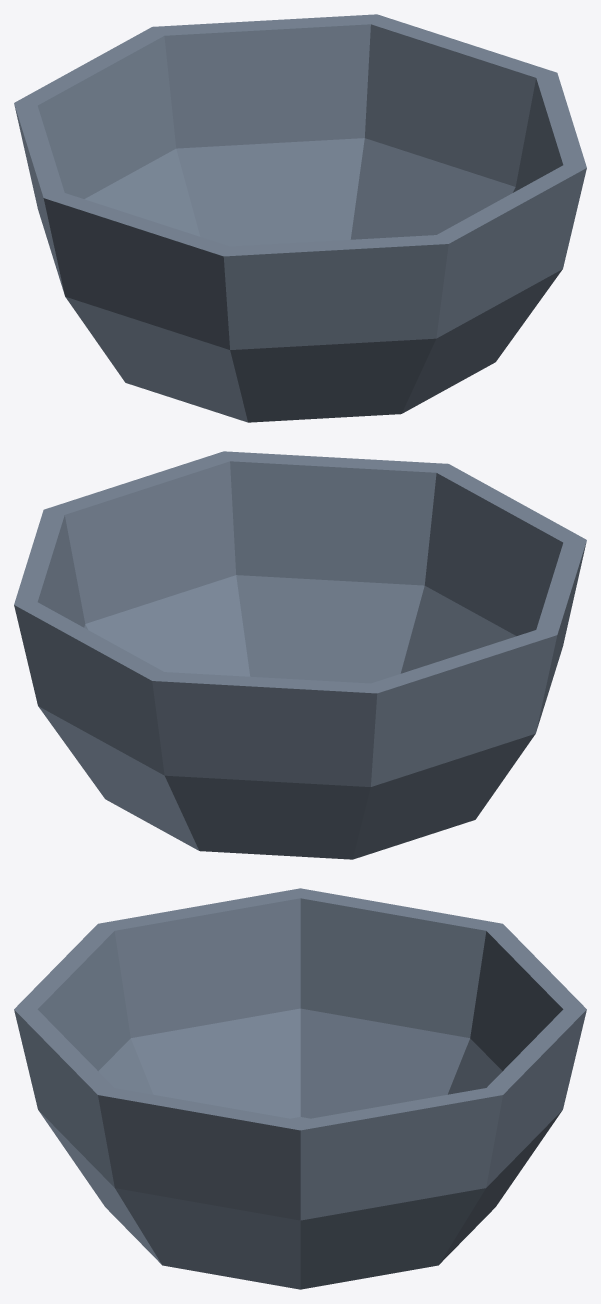
The model's file is Food_bowl.glb.
The picture shows the model from 3 angles, top to bottom: view 1: azimuth 30°, elevation 25°; view 2: azimuth 150°, elevation 25°; view 3: azimuth 270°, elevation 25°; orthographic projection. The views are drawn at different scales.
Visible parts, largest first — view 1: dishes02; view 2: dishes02; view 3: dishes02.
Part boxes in pixels (x1,y1,x2,y2): dishes02: [14, 14, 586, 422]; dishes02: [14, 451, 586, 859]; dishes02: [14, 888, 586, 1289].
Bounding box in the file's own units: 0.3222 × 0.1227 × 0.3222.
Materials: 1 (1 with a texture image).
